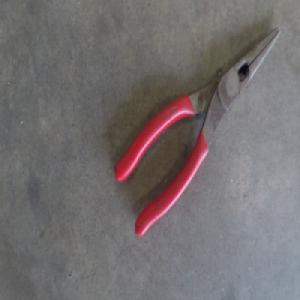Pliers: (114, 27, 282, 237)
